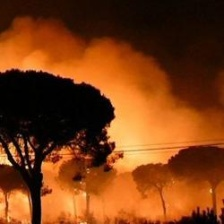fire: (1, 144, 223, 224)
